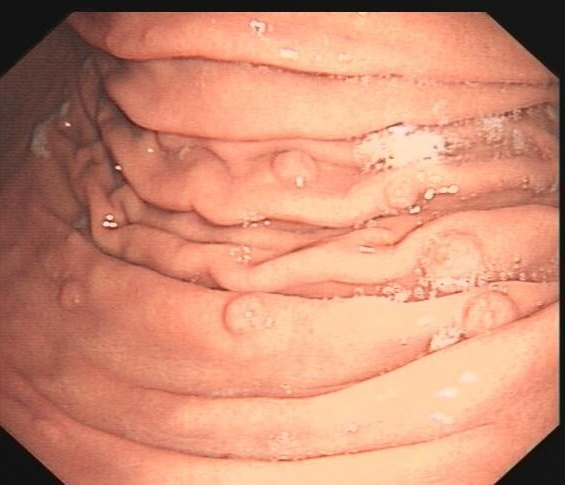Polyp: (420, 231, 489, 289)
